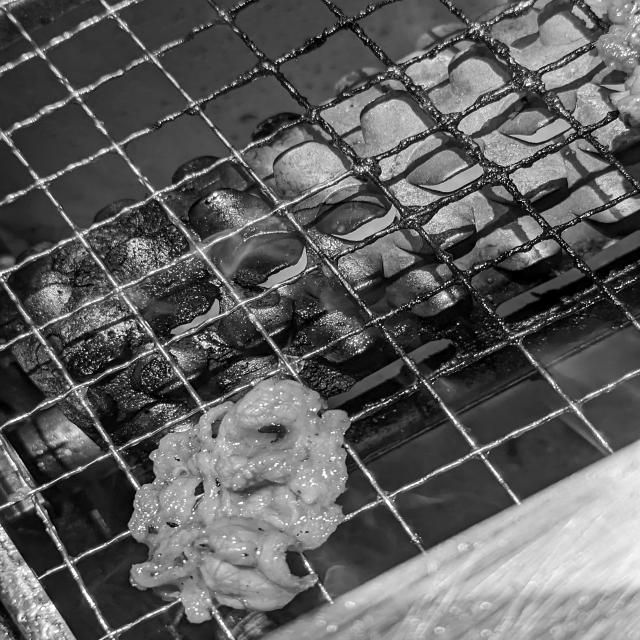OK cooked beef,: (107, 370, 380, 631)
